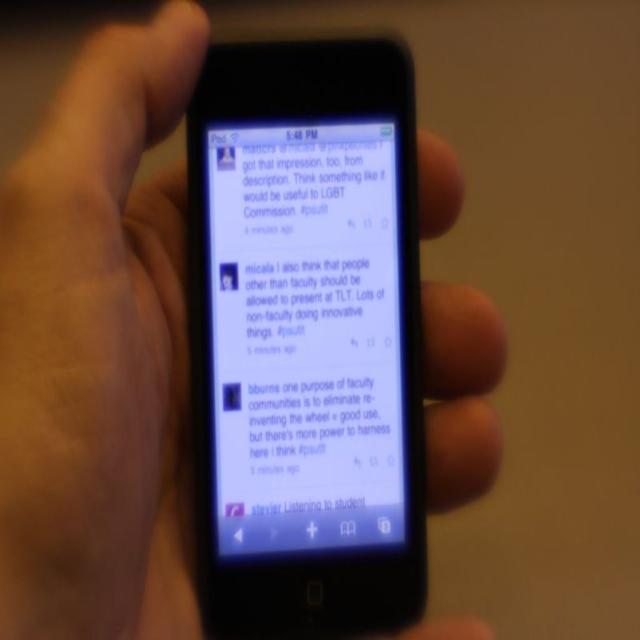Mobile-phone: (188, 20, 438, 633)
